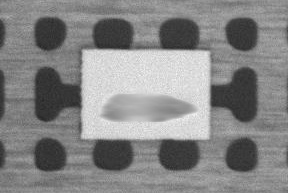DIE_INK: (102, 90, 197, 123)
